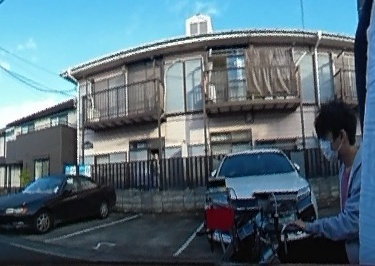person: (308, 96, 354, 266)
